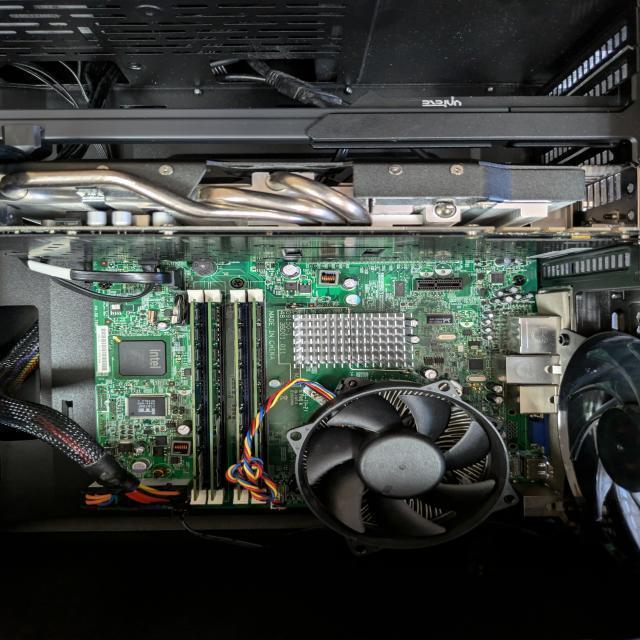CPU_Fan: (296, 381, 510, 551)
Mainboard: (93, 258, 538, 512)
RAM: (187, 290, 207, 504), (229, 290, 248, 504), (206, 290, 222, 504), (247, 290, 263, 502)
